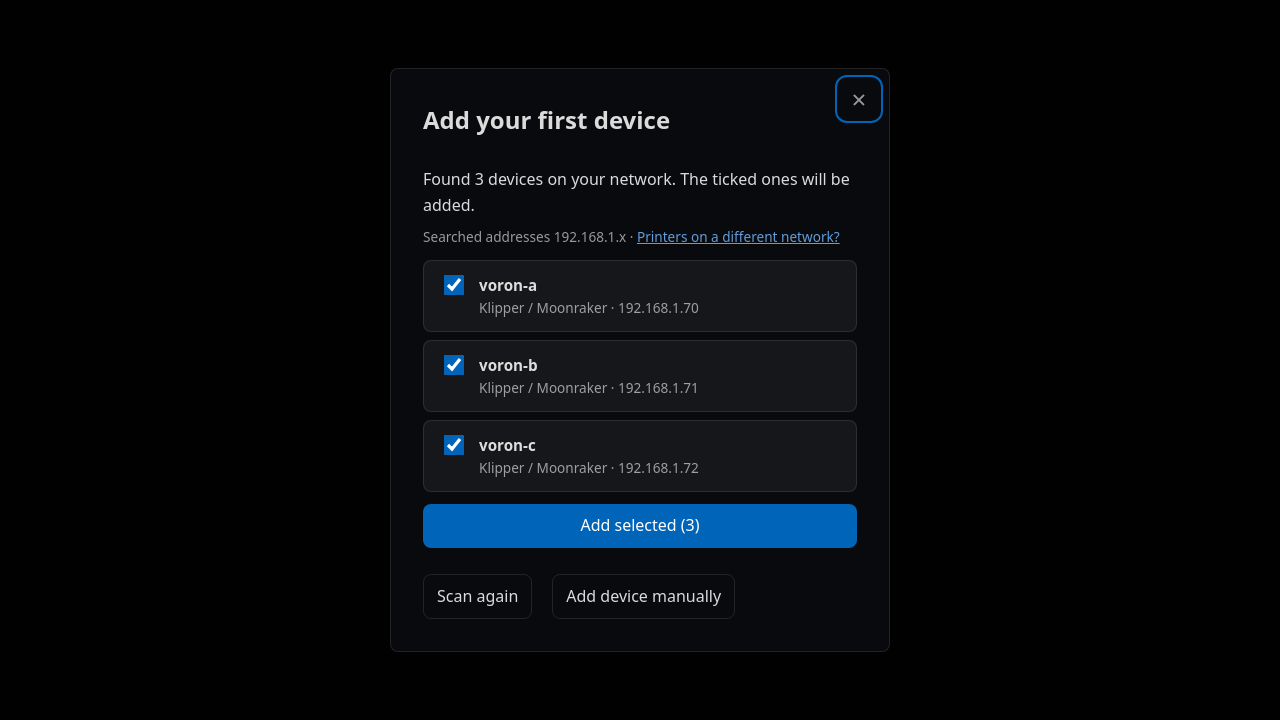
SetupWizard v2 › adds three Klipper devices with one POST each and no id field
This screenshot has width=1280, height=720.
Expected: the checkbox named "Select voron-a" is checked, [444, 275, 464, 295]
Expected: the checkbox named "Select voron-c" is checked, [444, 435, 464, 455]
Click the button "Add selected (3)" at [640, 526], box [423, 504, 857, 548]
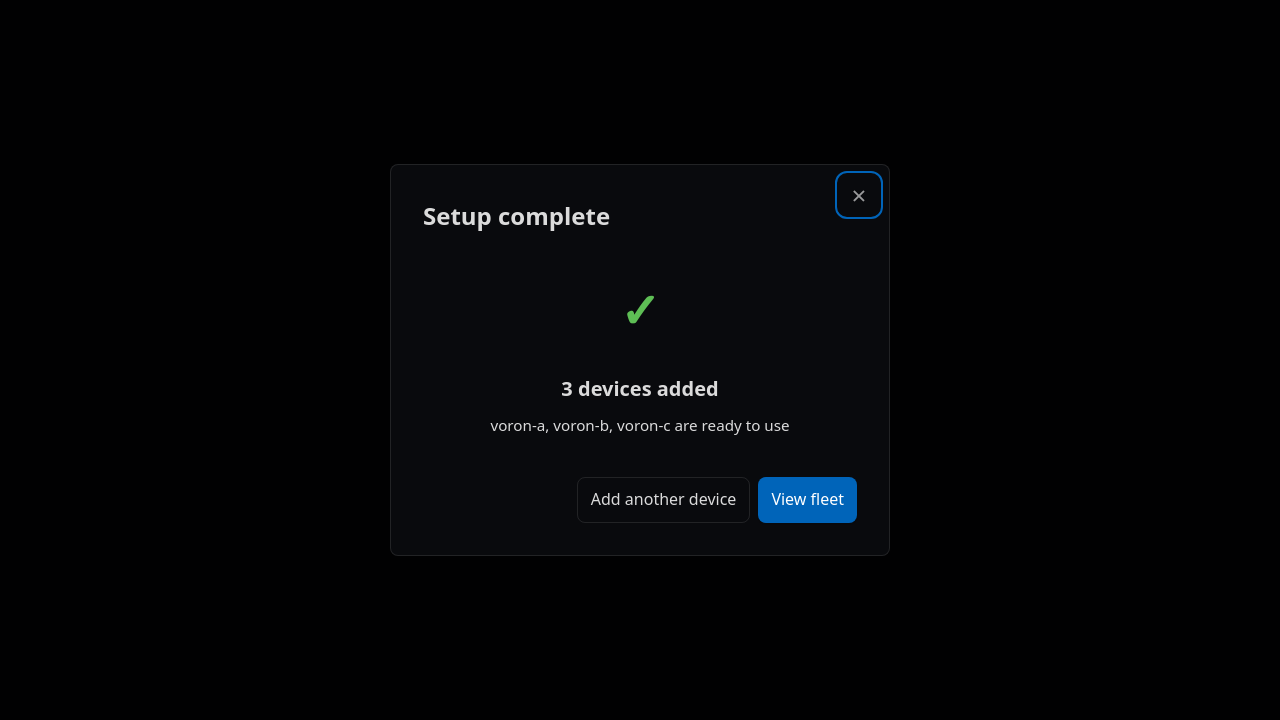
Expected: the heading "3 devices added" is shown, [561, 375, 719, 402]
